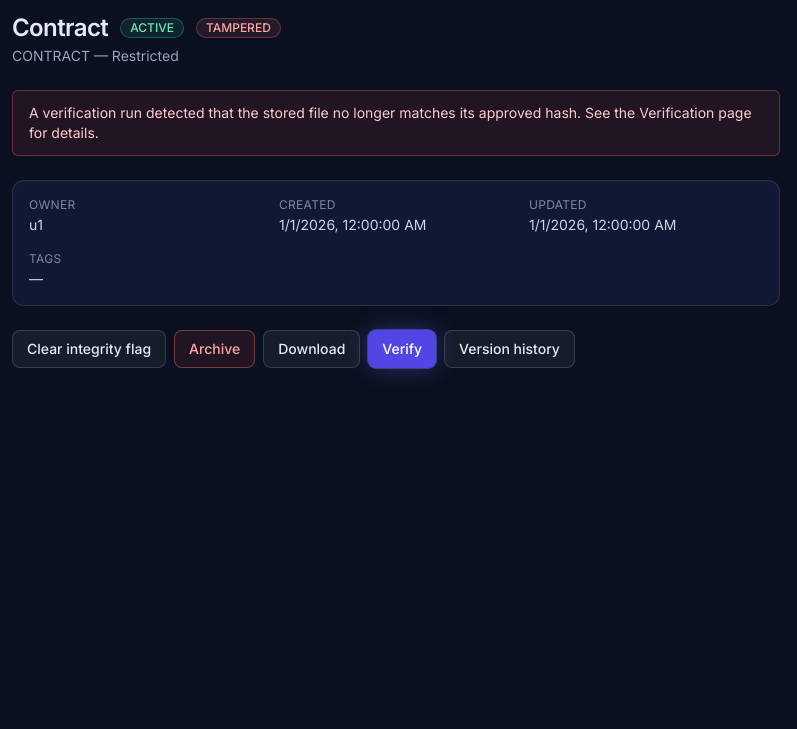
Test case: clearing a TAMPERED integrity flag (D-025) › sends the trimmed reason and shows the server's refusal when verification still fails
Click the button "Clear integrity flag": (89, 349) [12, 330, 166, 368]
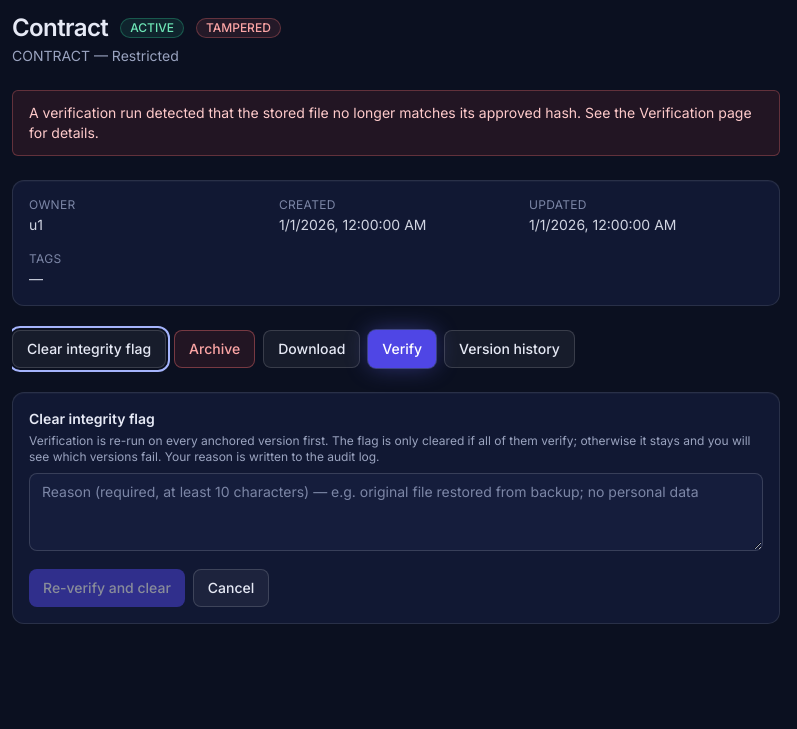
In the text box named "reason for clearing": (396, 512) [29, 473, 763, 551], type "  Restored from the nightly backup.  "
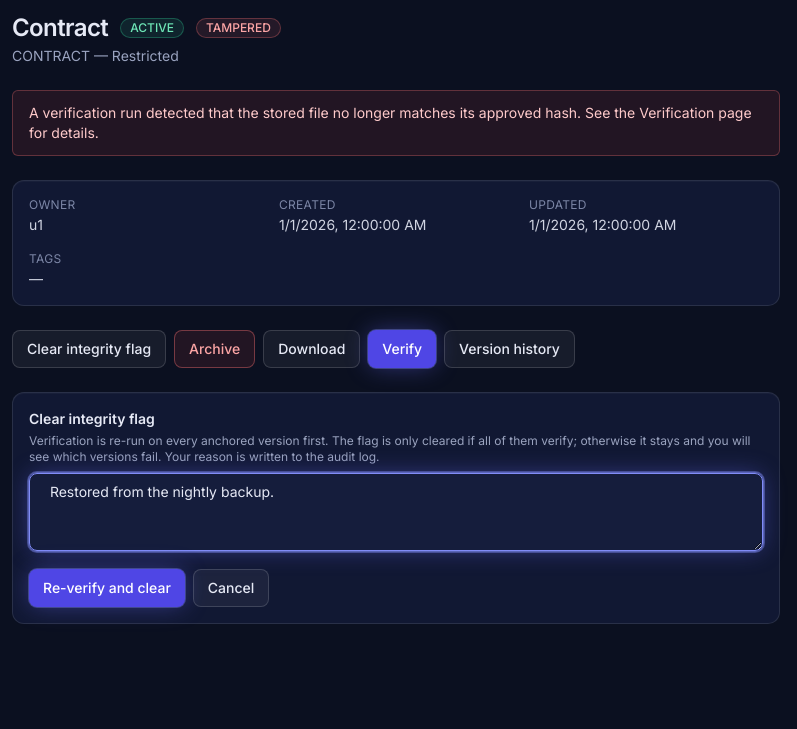
Click the button "Re-verify and clear": (107, 588) [29, 569, 185, 607]
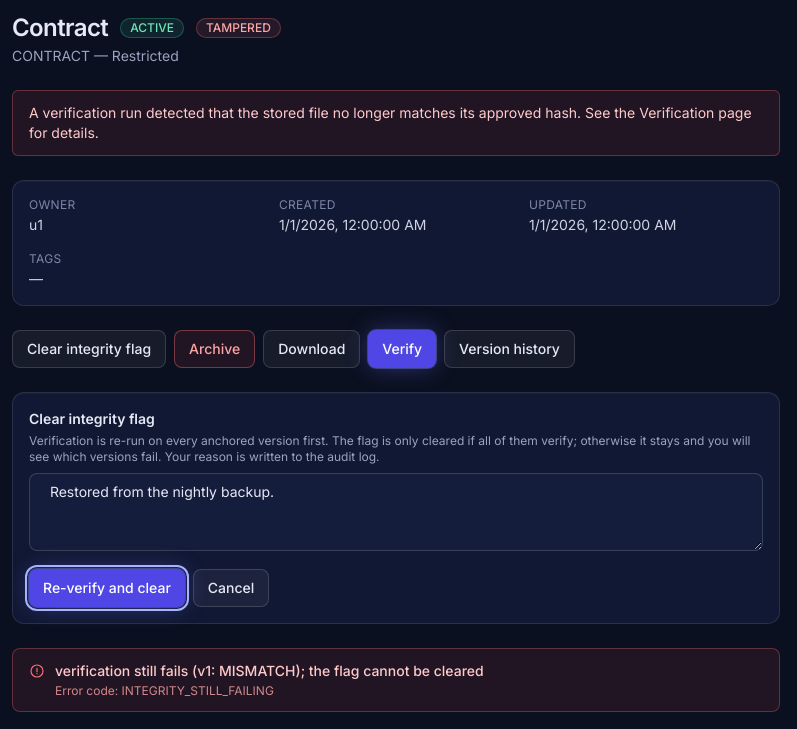
expect the text "v1: MISMATCH" is shown: met, box [55, 662, 484, 679]
